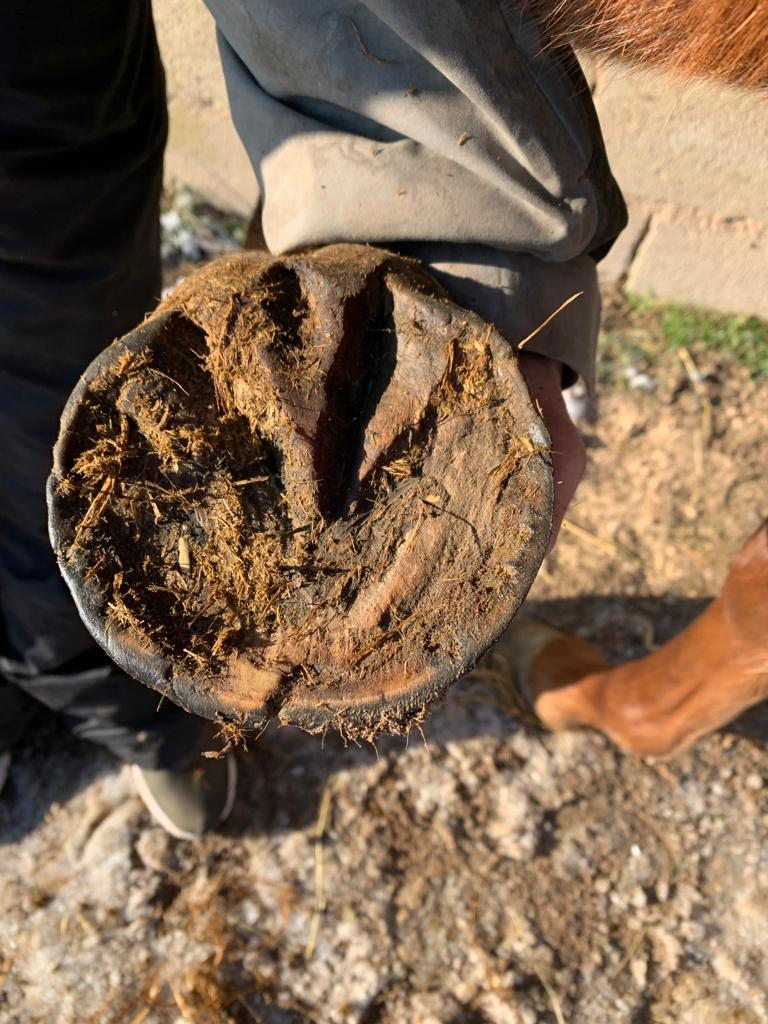horsesole: (49, 271, 553, 732)
